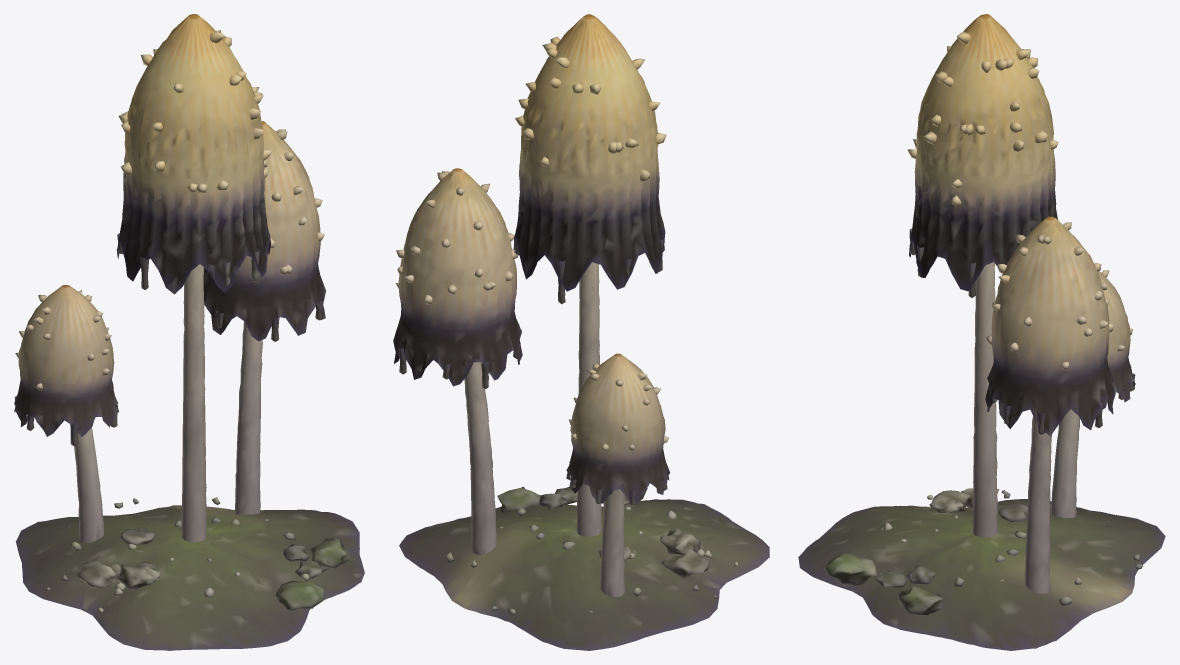
Rendered from mantar_murekkep.glb.
3 views of the same model, side by side, from view 1: azimuth 30°, elevation 25°; view 2: azimuth 150°, elevation 25°; view 3: azimuth 270°, elevation 25° (orthographic).
Visible parts, largest first — view 1: mantar_murekkep_LOD0; view 2: mantar_murekkep_LOD0; view 3: mantar_murekkep_LOD0.
Boxes of the visible parts, left/top/right/bottom form: mantar_murekkep_LOD0: left=14, top=14, right=364, bottom=650; mantar_murekkep_LOD0: left=393, top=14, right=769, bottom=650; mantar_murekkep_LOD0: left=798, top=14, right=1165, bottom=650.
Size of what is drawn, in the model's own units: 0.5515 by 0.9332 by 0.5627.
